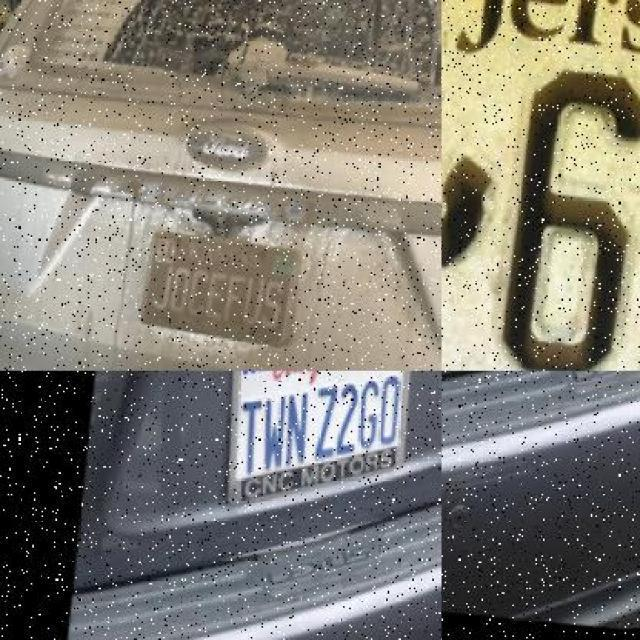LicensePlate: (441, 0, 640, 371), (203, 371, 429, 527), (128, 234, 291, 355), (507, 371, 640, 480)
